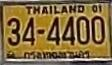0: (76, 15, 89, 44), (91, 15, 104, 43)
3: (7, 17, 20, 45)
4: (46, 16, 59, 44), (61, 16, 74, 44), (22, 17, 34, 45)
BKK: (23, 48, 91, 60)
